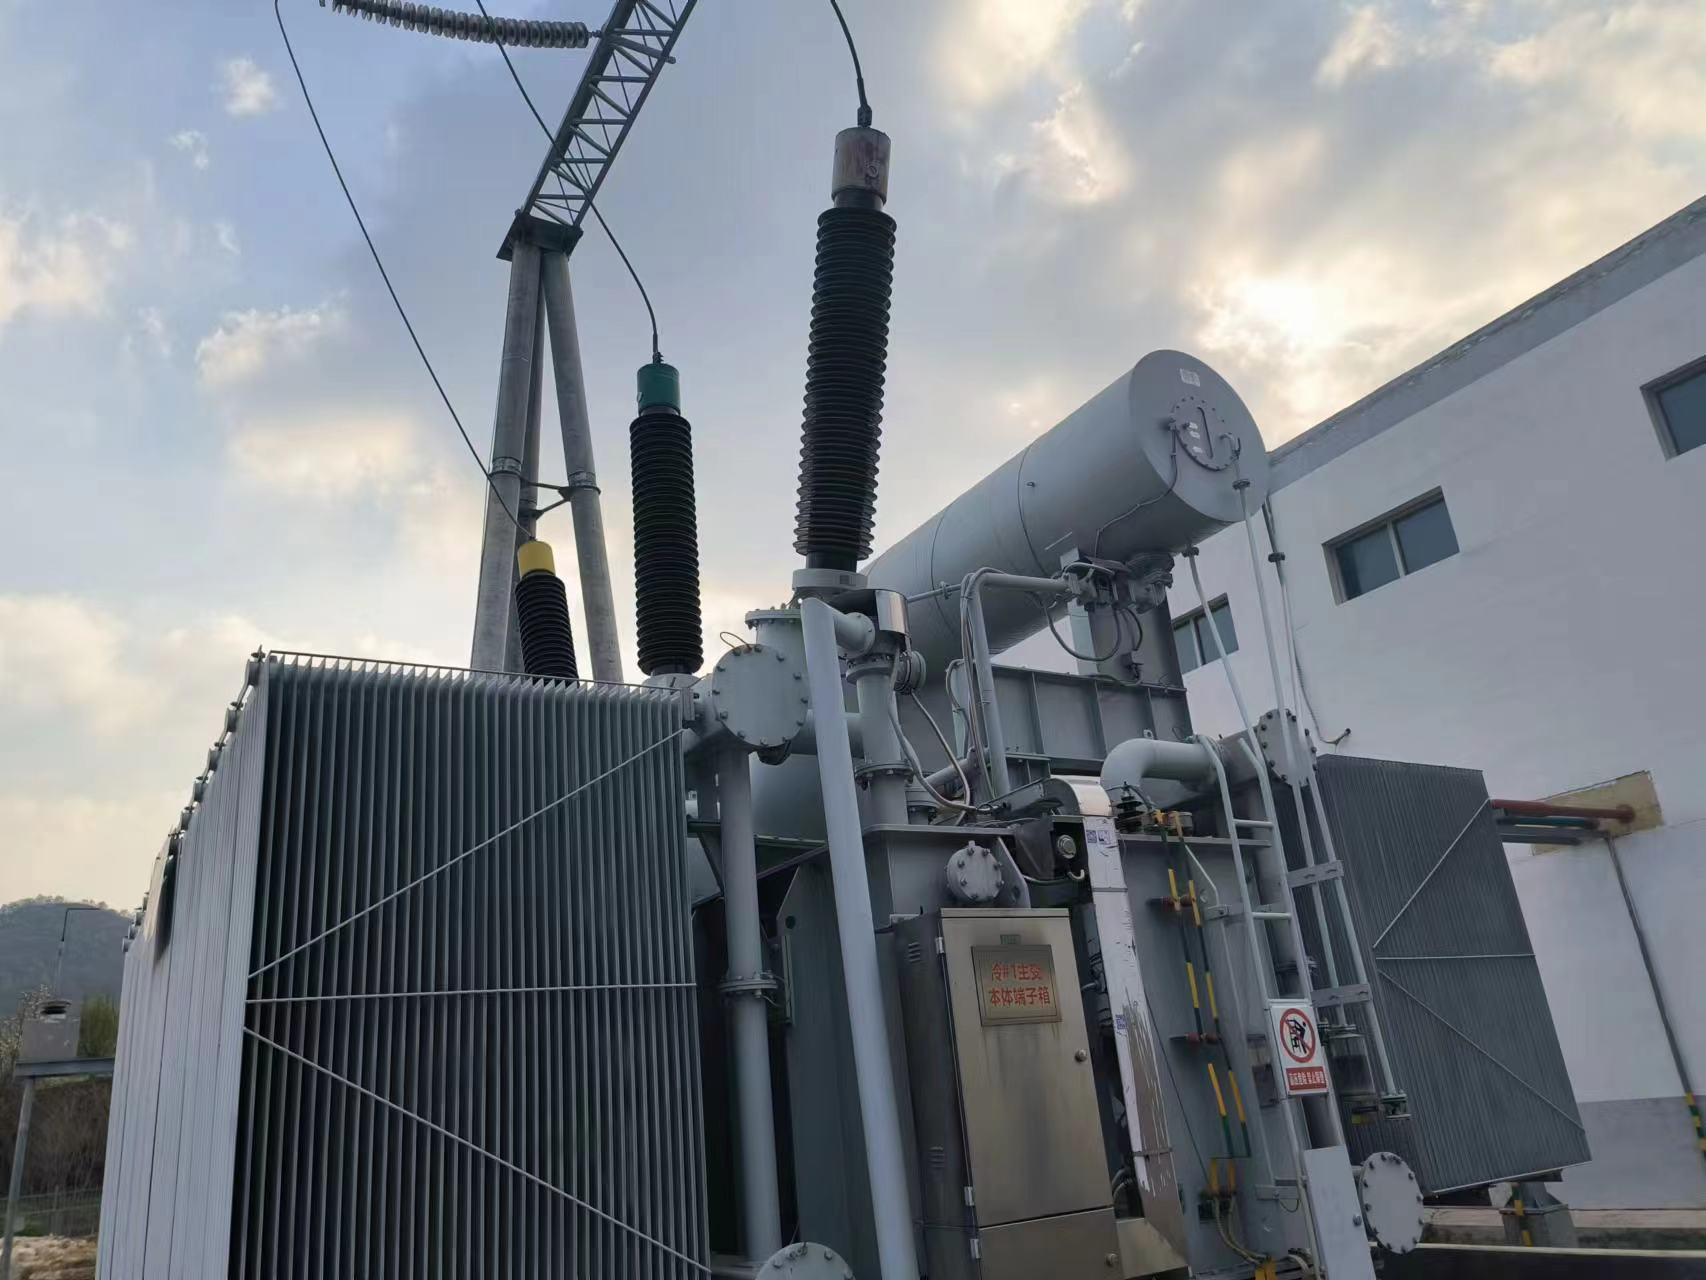Conservator: (784, 354, 1284, 687)
